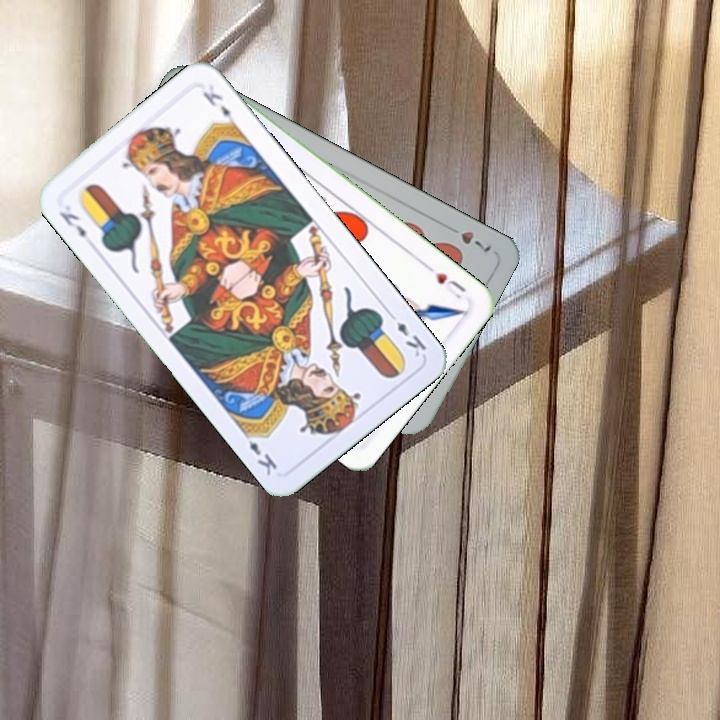EK: (383, 307, 429, 360), (55, 207, 89, 241)
H7: (441, 220, 494, 255)
HU: (422, 261, 469, 302)
